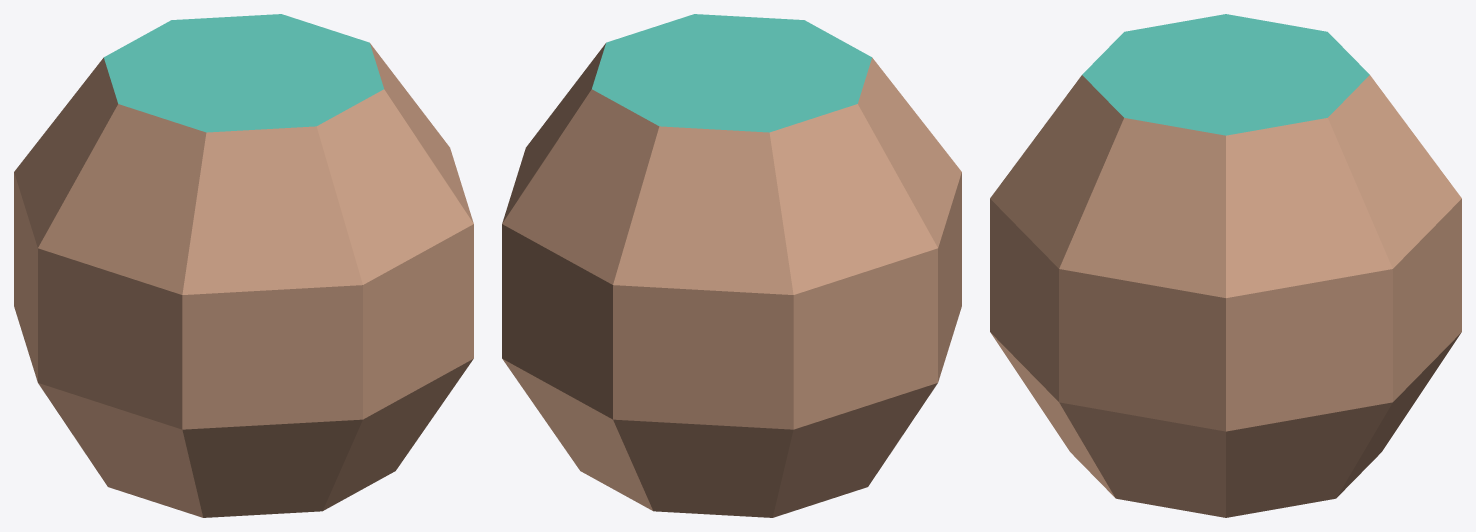
File: rock_smallH.glb
The picture shows the model from 3 angles, left to right: view 1: azimuth 30°, elevation 25°; view 2: azimuth 150°, elevation 25°; view 3: azimuth 270°, elevation 25°; orthographic projection.
Visible parts, largest first — view 1: rock_smallH; view 2: rock_smallH; view 3: rock_smallH.
Boxes of the visible parts, left/top/right/bottom form: rock_smallH: left=14, top=14, right=473, bottom=517; rock_smallH: left=502, top=14, right=961, bottom=517; rock_smallH: left=990, top=14, right=1461, bottom=517.
Size of the model in its own units: 0.4618 by 0.4074 by 0.4618.
